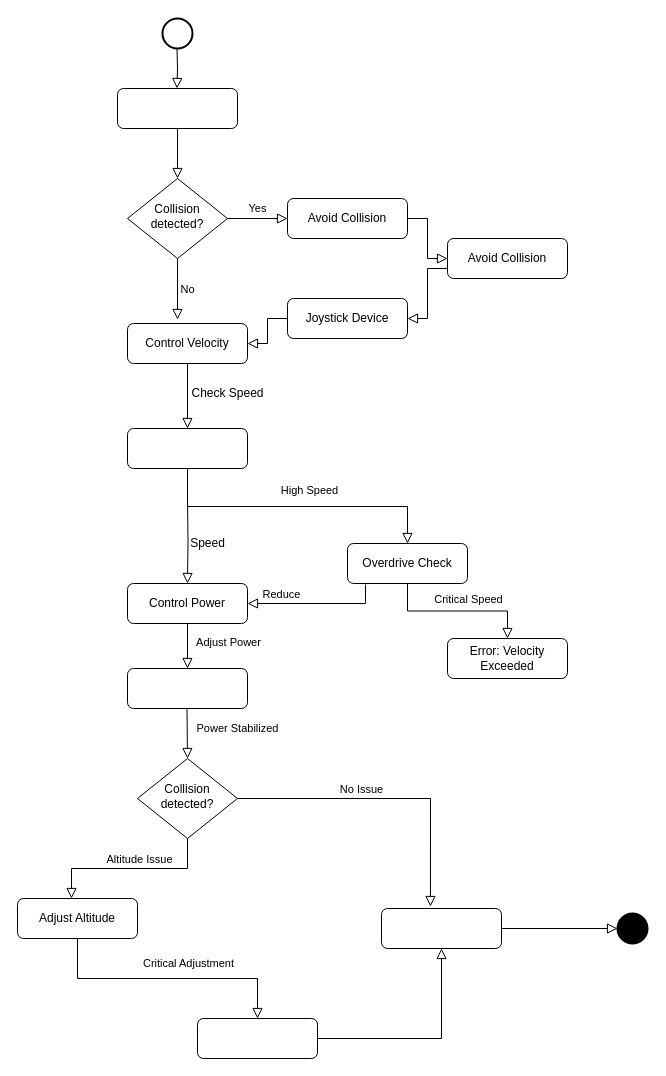
Some shapes in this 666 by 1076 pixel diagram are drawn without their labels. The centre of each missing label's shape, as x and y in pixels:
"Display Data" goes at [441,928].
"Flight Safety System" goes at [177,108].
"Power Sensor" goes at [187,688].
"Send Alert" goes at [257,1038].
"Speed Sensor" goes at [187,448].
